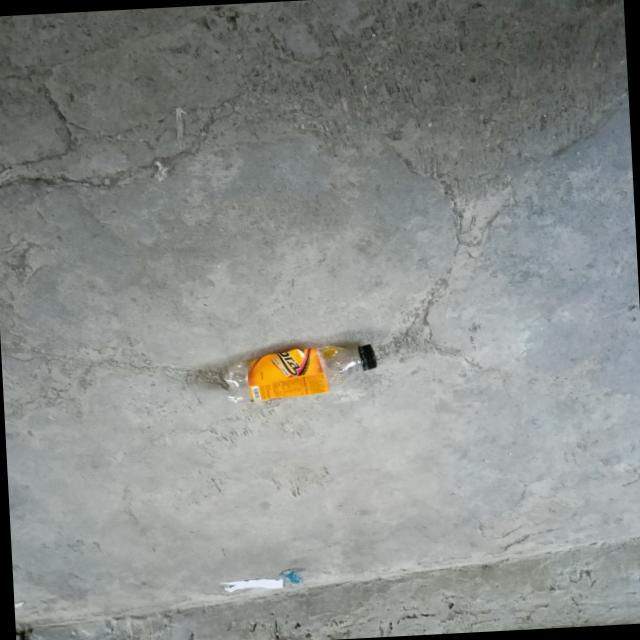Bottle: (224, 345, 377, 402)
